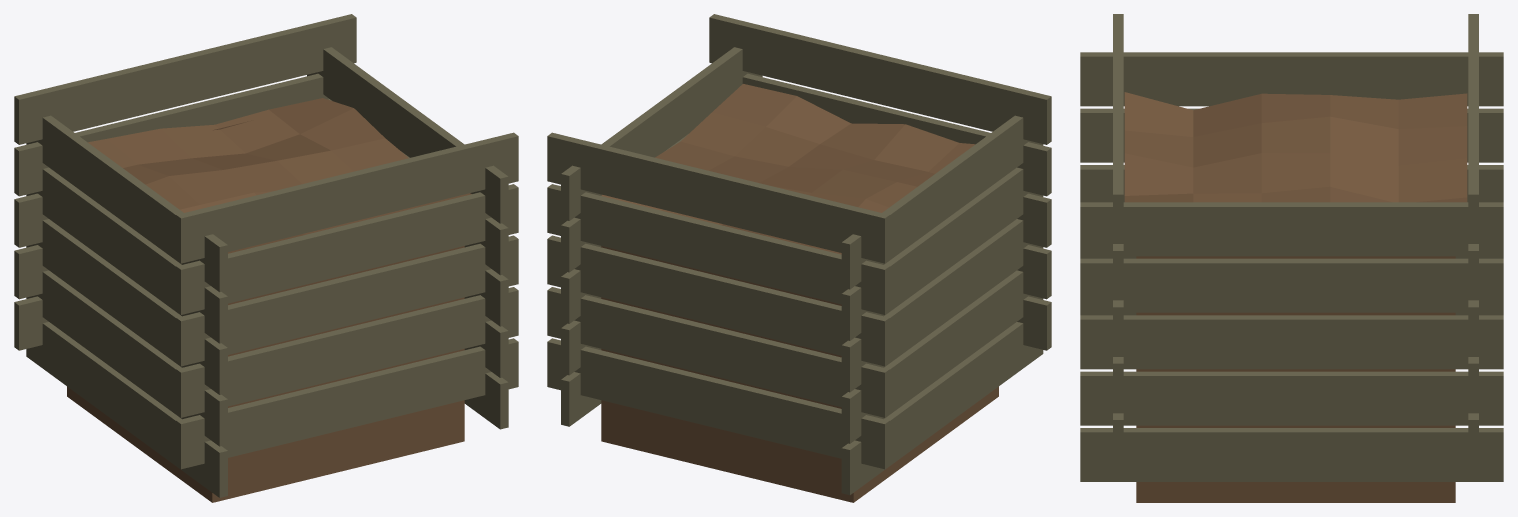
File: kompostownik.fbx
The picture shows the model from 3 angles, left to right: view 1: azimuth 30°, elevation 25°; view 2: azimuth 150°, elevation 25°; view 3: azimuth 270°, elevation 25°; orthographic projection. The views are drawn at different scales.
Parts seen in each view (by area): view 1: kompostownik; view 2: kompostownik; view 3: kompostownik.
Part boxes in pixels (left/top/right/bottom): kompostownik: left=14, top=14, right=518, bottom=502; kompostownik: left=547, top=14, right=1051, bottom=502; kompostownik: left=1080, top=14, right=1503, bottom=502.
Size of the model in its own units: 314 by 269 by 311.
